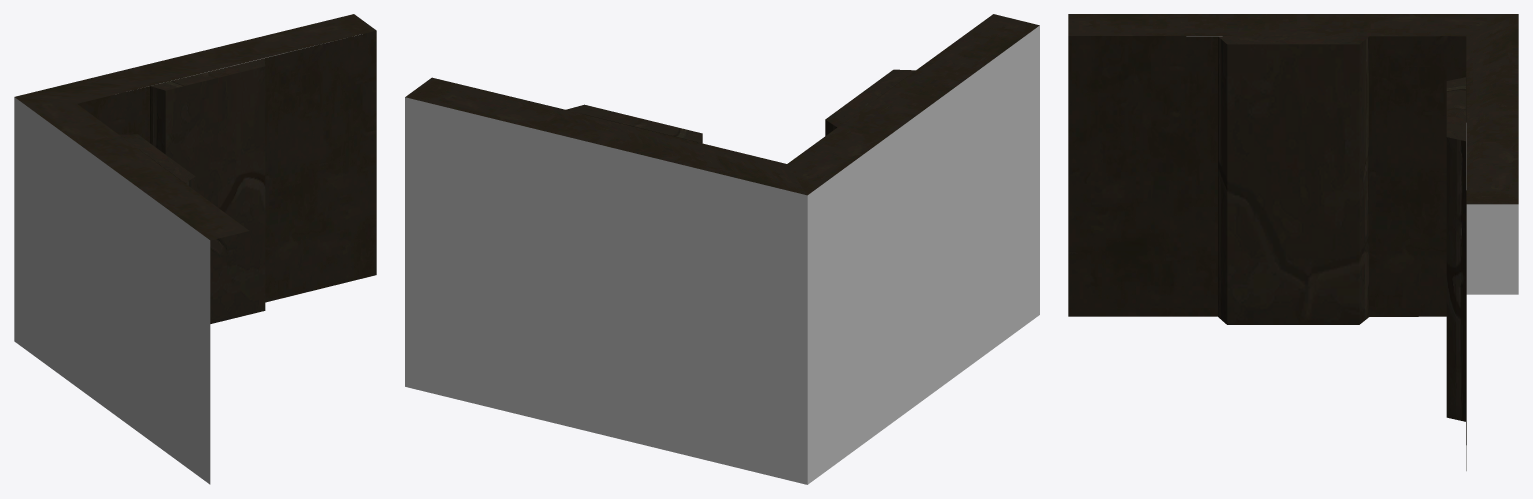
Rendered from fortress_half_concave_02.fbx.
3 renders of one model, left to right at view 1: azimuth 30°, elevation 25°; view 2: azimuth 150°, elevation 25°; view 3: azimuth 270°, elevation 25°, orthographic. The views are drawn at different scales.
Visible parts, largest first — view 1: fortress_half_concave_02-0; view 2: fortress_half_concave_02-0; view 3: fortress_half_concave_02-0.
Part boxes in pixels (left/top/right/bottom): fortress_half_concave_02-0: left=14, top=14, right=376, bottom=484; fortress_half_concave_02-0: left=405, top=14, right=1039, bottom=484; fortress_half_concave_02-0: left=1068, top=14, right=1518, bottom=470.
Size of the model in its own units: 4 by 2.75 by 4.
